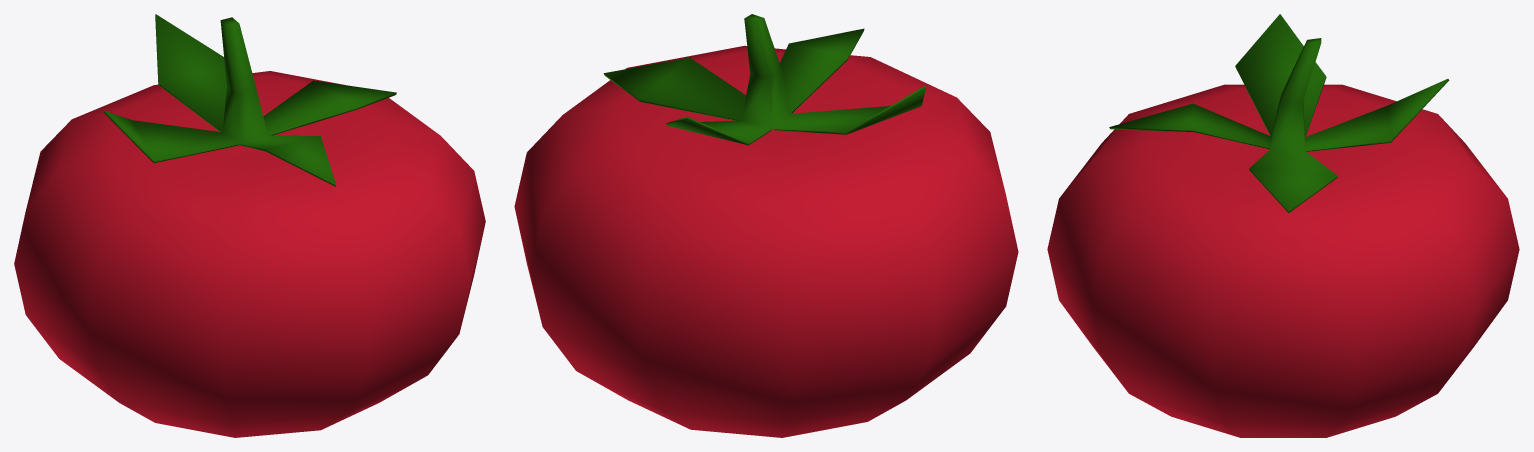
File: Tomato.fbx
3 views of the same model, side by side, from view 1: azimuth 30°, elevation 25°; view 2: azimuth 150°, elevation 25°; view 3: azimuth 270°, elevation 25° (orthographic). The views are drawn at different scales.
Parts seen in each view (by area): view 1: Sphere; view 2: Sphere; view 3: Sphere.
Boxes of the visible parts, x1,y1,x2,y2 form: Sphere: (14,14,485,437); Sphere: (514,14,1018,437); Sphere: (1047,14,1519,437).
Size of the model in its own units: 9.51 by 8.45 by 10.
